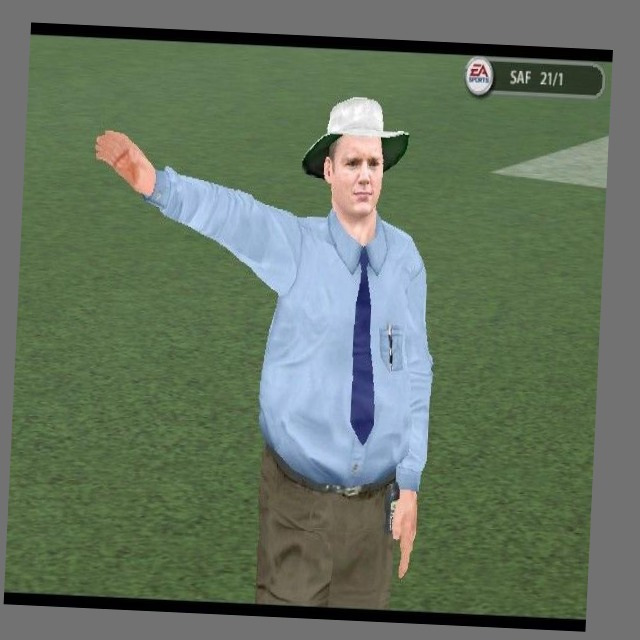No_Ball: (67, 76, 452, 624)
